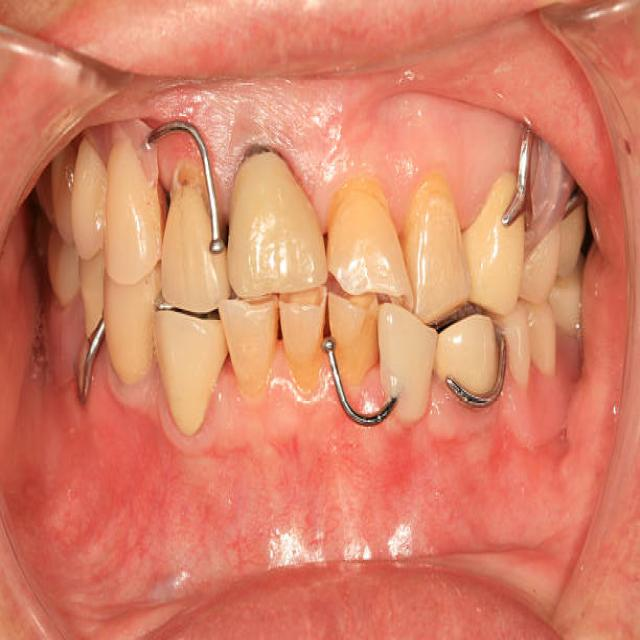caries: (321, 165, 398, 229), (232, 132, 292, 188), (169, 152, 208, 214), (280, 278, 330, 320)
